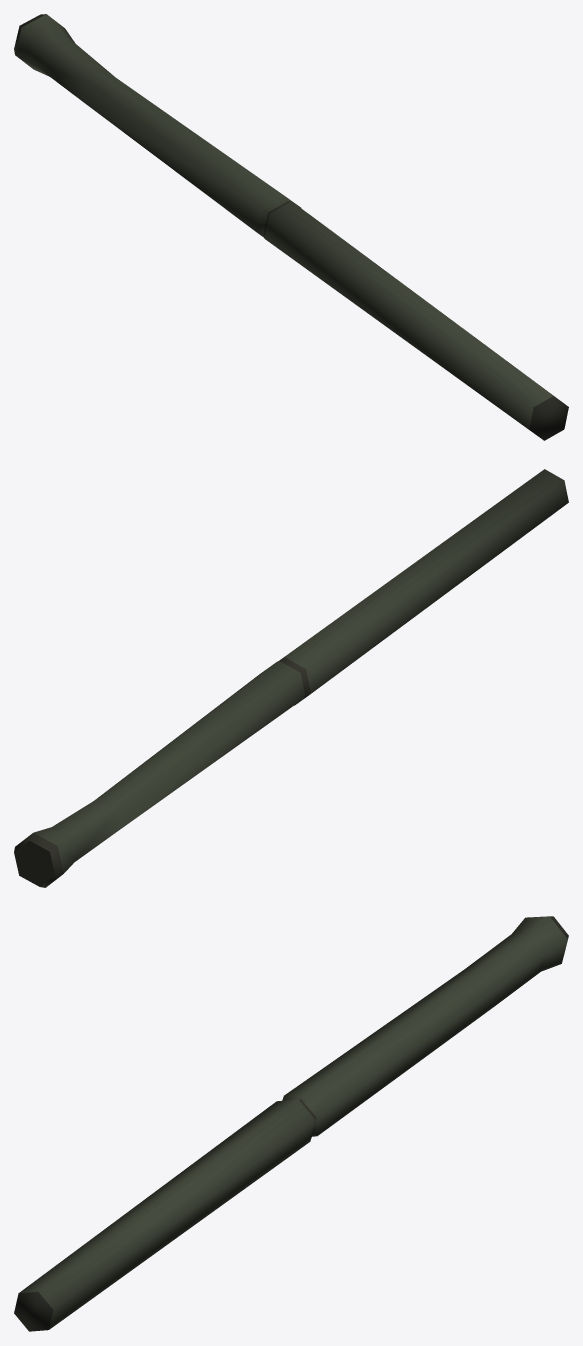
Rendered from bamboos stick.fbx.
3 renders of one model, top to bottom at view 1: azimuth 30°, elevation 25°; view 2: azimuth 150°, elevation 25°; view 3: azimuth 330°, elevation 25°, orthographic.
Visible parts, largest first — view 1: Phase 4 Bamboo 4; view 2: Phase 4 Bamboo 4; view 3: Phase 4 Bamboo 4.
Boxes of the visible parts, box(x1,y1,x2,y2) form: Phase 4 Bamboo 4: box(14, 14, 568, 440); Phase 4 Bamboo 4: box(14, 469, 568, 887); Phase 4 Bamboo 4: box(14, 916, 568, 1331).
Bounding box in the file's own units: 30.38 × 30.46 × 543.
